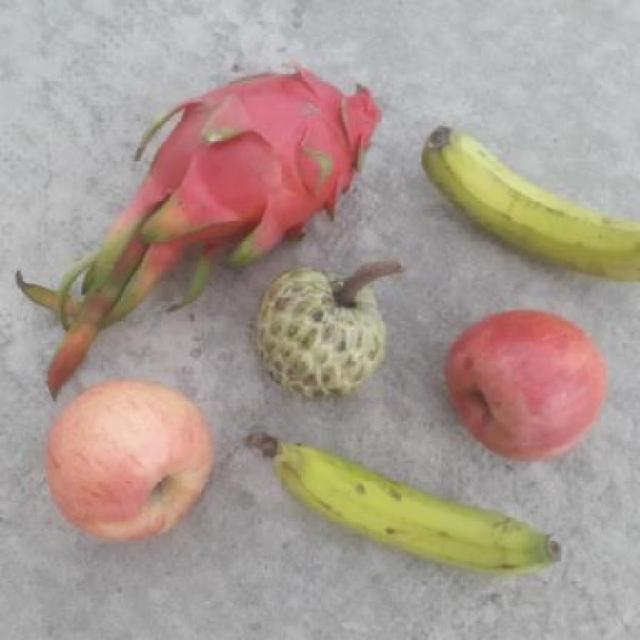apple: (46, 378, 215, 555), (441, 306, 612, 465)
banana: (243, 431, 572, 585), (419, 125, 639, 291)
dragon fruit: (134, 59, 389, 259)
sugar apple: (250, 263, 393, 405)
